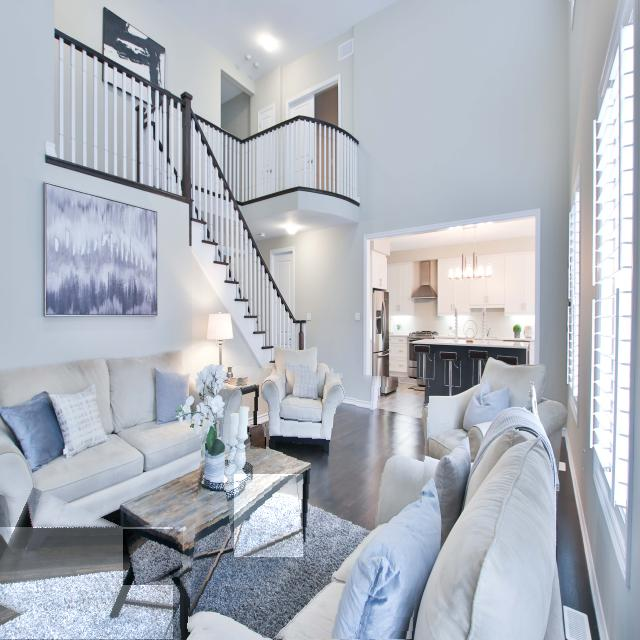floor: (190, 378, 425, 638), (0, 527, 173, 640), (234, 474, 303, 557), (123, 530, 183, 585), (190, 518, 236, 568), (180, 558, 206, 629), (250, 425, 266, 449)
